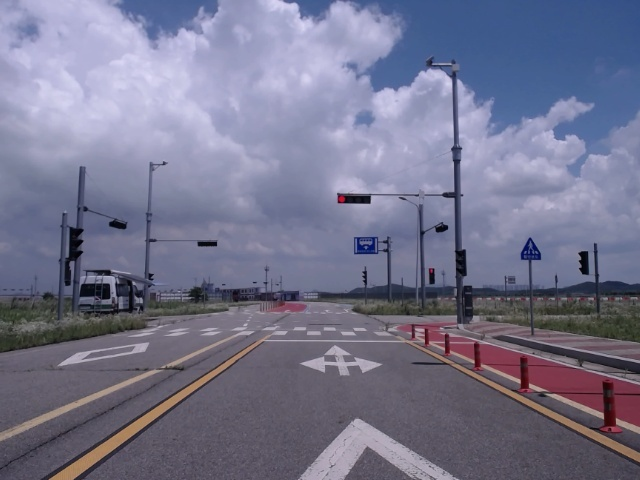red_4: (338, 195, 371, 204)
